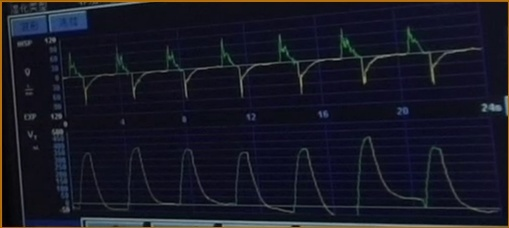Accumulation Flow: (63, 27, 476, 106)
Volume: (73, 135, 493, 217)
